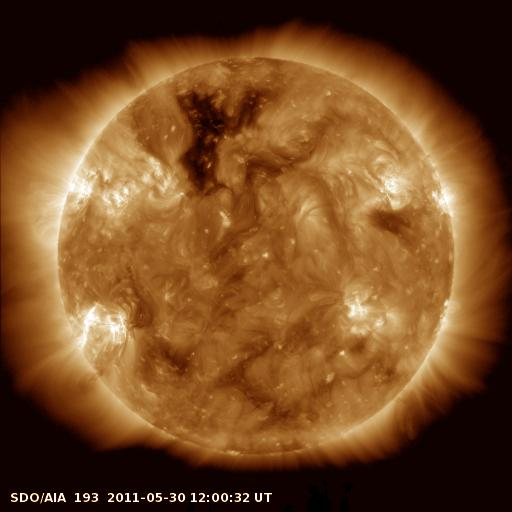coronal_hole: (176, 82, 278, 200)
